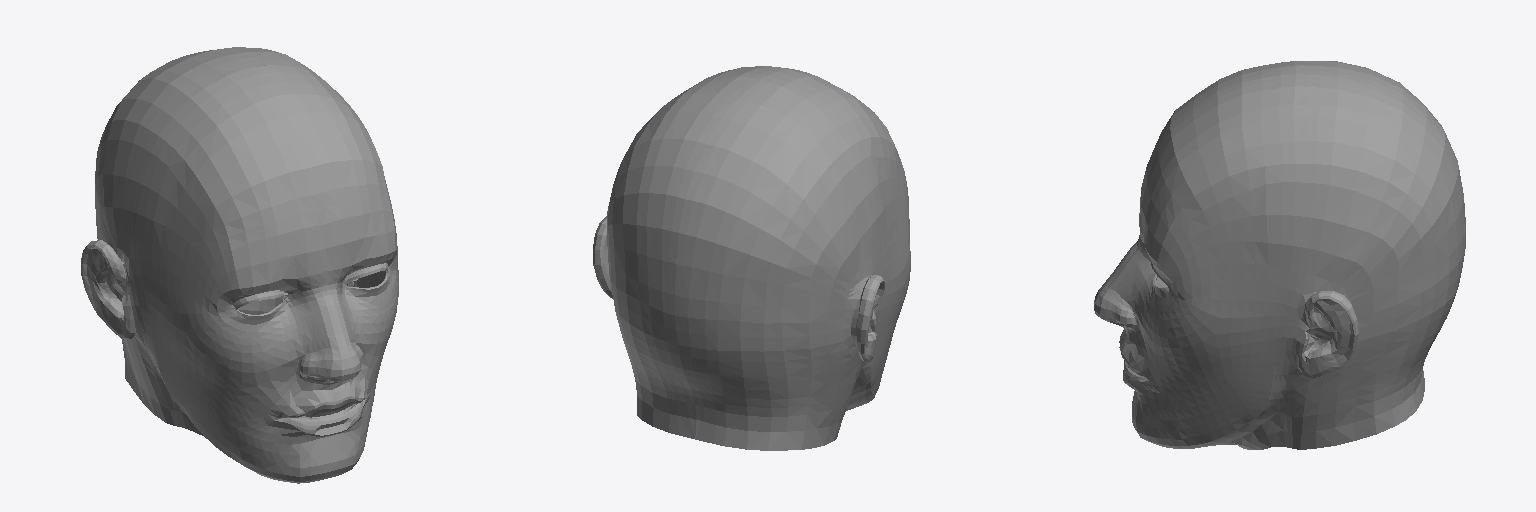
File: ychj.obj
3 views of the same model, side by side, from view 1: azimuth 30°, elevation 25°; view 2: azimuth 150°, elevation 25°; view 3: azimuth 270°, elevation 25° (orthographic).
Visible parts, largest first — view 1: Mesh_object0; view 2: Mesh_object0; view 3: Mesh_object0.
Part boxes in pixels (left/top/right/bottom): Mesh_object0: left=81, top=47, right=398, bottom=483; Mesh_object0: left=593, top=66, right=910, bottom=450; Mesh_object0: left=1094, top=61, right=1465, bottom=449.
Bounding box in the file's own units: 30.6 × 38.16 × 35.42.